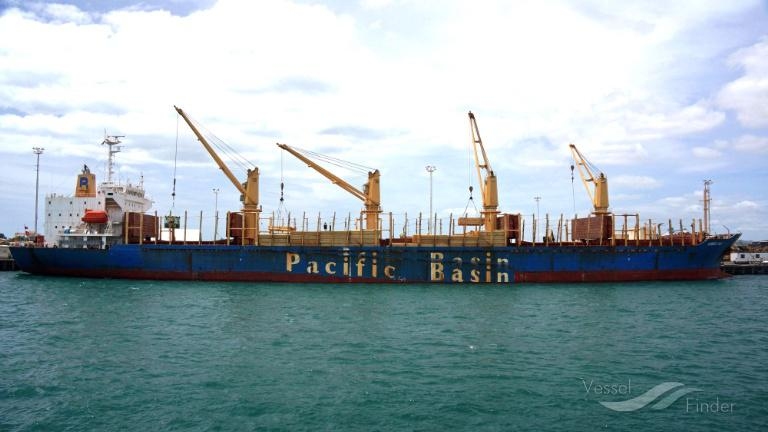OCR: (263, 248, 514, 282)
